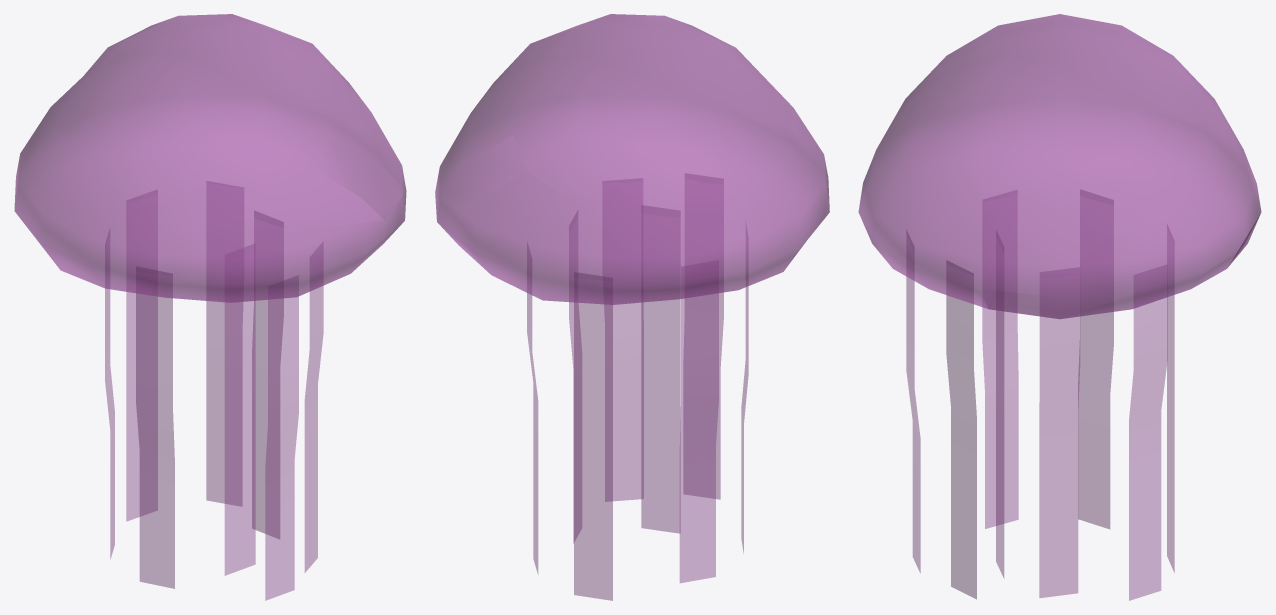
The model's file is Jellyfish_Mesh.fbx.
3 views of the same model, side by side, from view 1: azimuth 30°, elevation 25°; view 2: azimuth 150°, elevation 25°; view 3: azimuth 270°, elevation 25° (orthographic). The views are drawn at different scales.
Visible parts, largest first — view 1: Jellyfish_Mesh; view 2: Jellyfish_Mesh; view 3: Jellyfish_Mesh.
Boxes of the visible parts, bbox=[...] form: Jellyfish_Mesh: bbox=[14, 14, 406, 600]; Jellyfish_Mesh: bbox=[435, 14, 829, 600]; Jellyfish_Mesh: bbox=[858, 14, 1261, 600].
Bounding box in the file's own units: 6.13 × 9.07 × 6.13.
